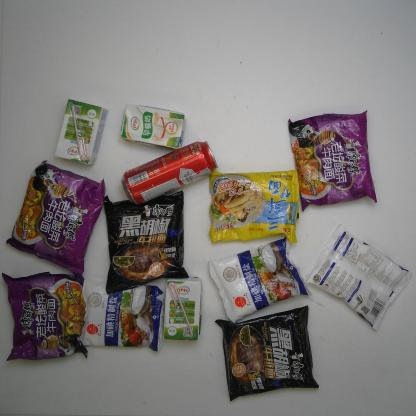Alcohol: (122, 140, 218, 205)
Instant Noodles: (4, 159, 106, 279), (213, 305, 320, 402), (286, 110, 382, 211), (100, 192, 191, 298), (2, 271, 87, 366), (206, 170, 301, 244)
Milk: (54, 99, 108, 168), (118, 101, 188, 149), (163, 276, 204, 341)
Seasoner: (306, 223, 412, 332), (206, 235, 313, 322), (77, 284, 164, 356)
